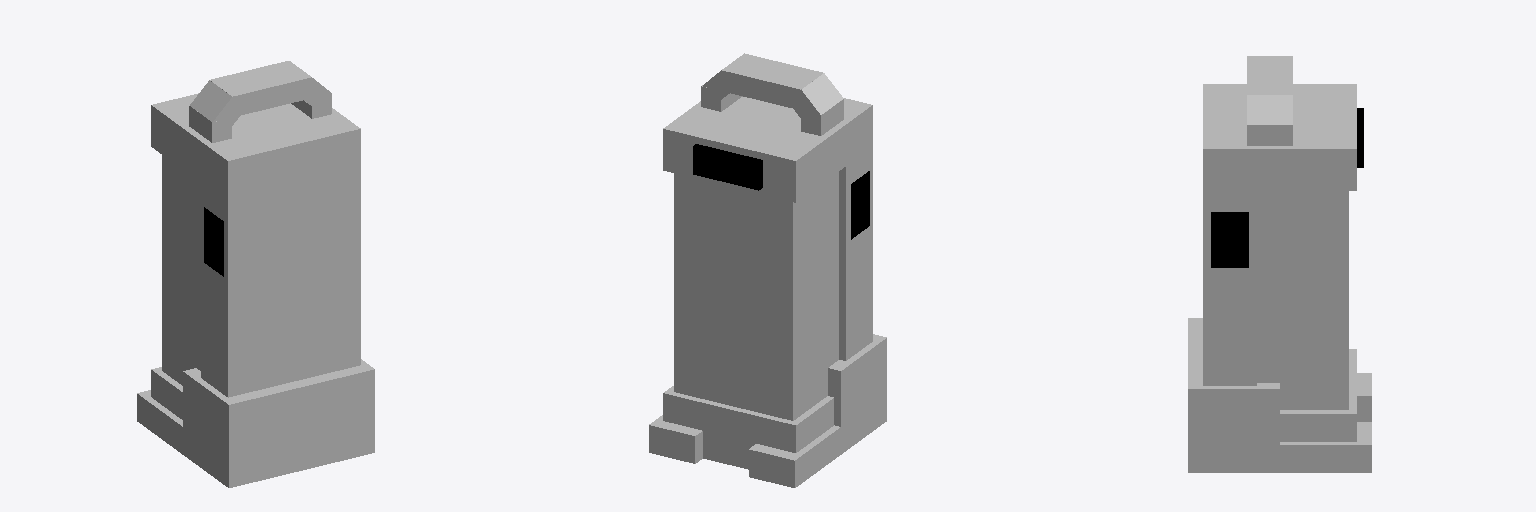
The picture shows the model from 3 angles: view 1: azimuth 30°, elevation 25°; view 2: azimuth 150°, elevation 25°; view 3: azimuth 270°, elevation 25°; orthographic projection.
Visible parts, largest first — view 1: cube; view 2: cube; view 3: cube.
Part boxes in pixels (bbox=[...]): cube: bbox=[137, 61, 374, 487]; cube: bbox=[649, 53, 886, 487]; cube: bbox=[1188, 56, 1371, 472].
Size of the model in its own units: 1.38 by 3.25 by 1.5.
2 materials, 1 textured.